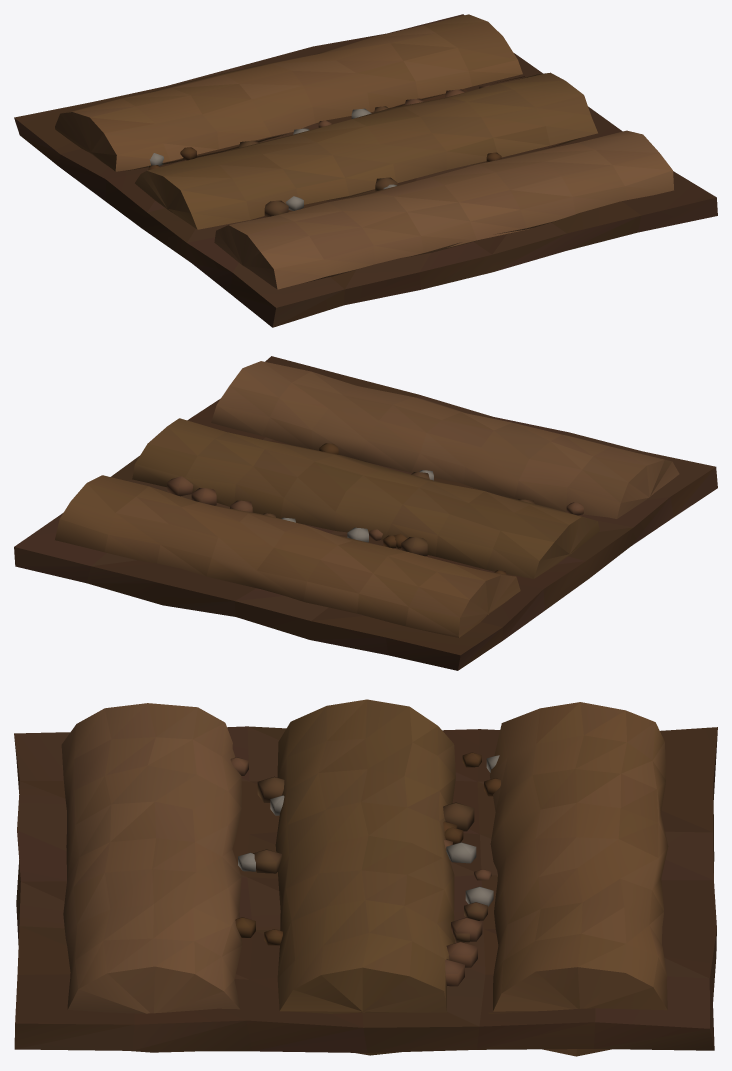
File: g3d-plot-soil.glb
The picture shows the model from 3 angles, top to bottom: view 1: azimuth 30°, elevation 25°; view 2: azimuth 150°, elevation 25°; view 3: azimuth 270°, elevation 25°; orthographic projection. The views are drawn at different scales.
Visible parts, largest first — view 1: plot-soil-kit; view 2: plot-soil-kit; view 3: plot-soil-kit.
Part boxes in pixels (left/top/right/bottom): plot-soil-kit: left=14, top=14, right=717, bottom=327; plot-soil-kit: left=14, top=356, right=717, bottom=670; plot-soil-kit: left=14, top=699, right=717, bottom=1056.
Size of the model in its own units: 1.55 by 0.2202 by 1.55.
